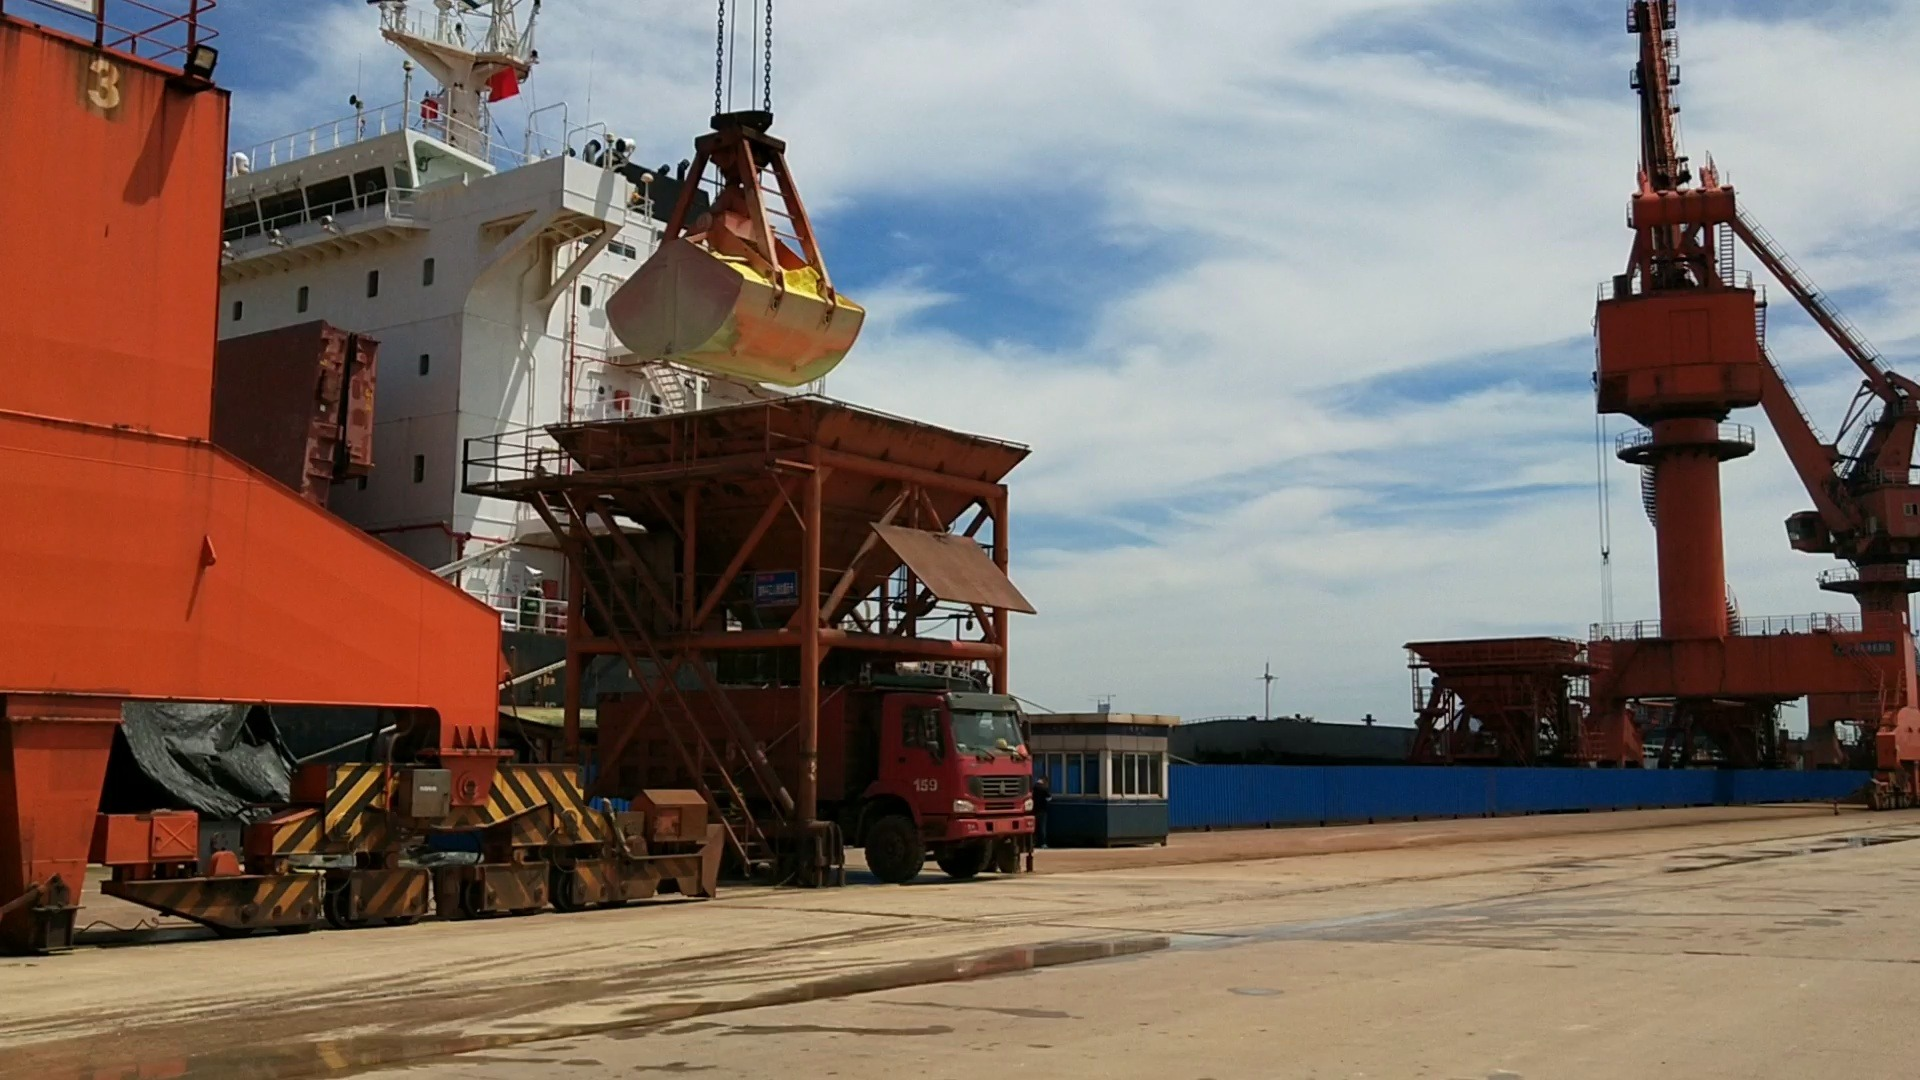grab: (593, 98, 872, 390)
truck: (783, 655, 1043, 877)
